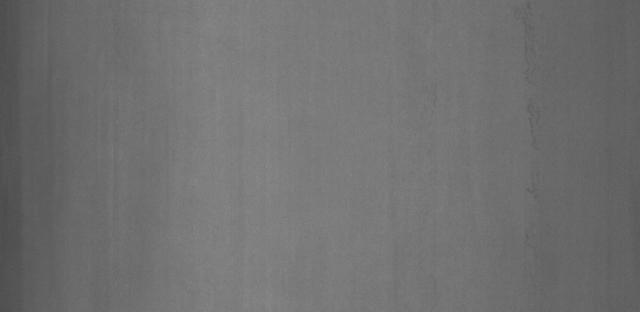silk_spot: (510, 0, 556, 203)
